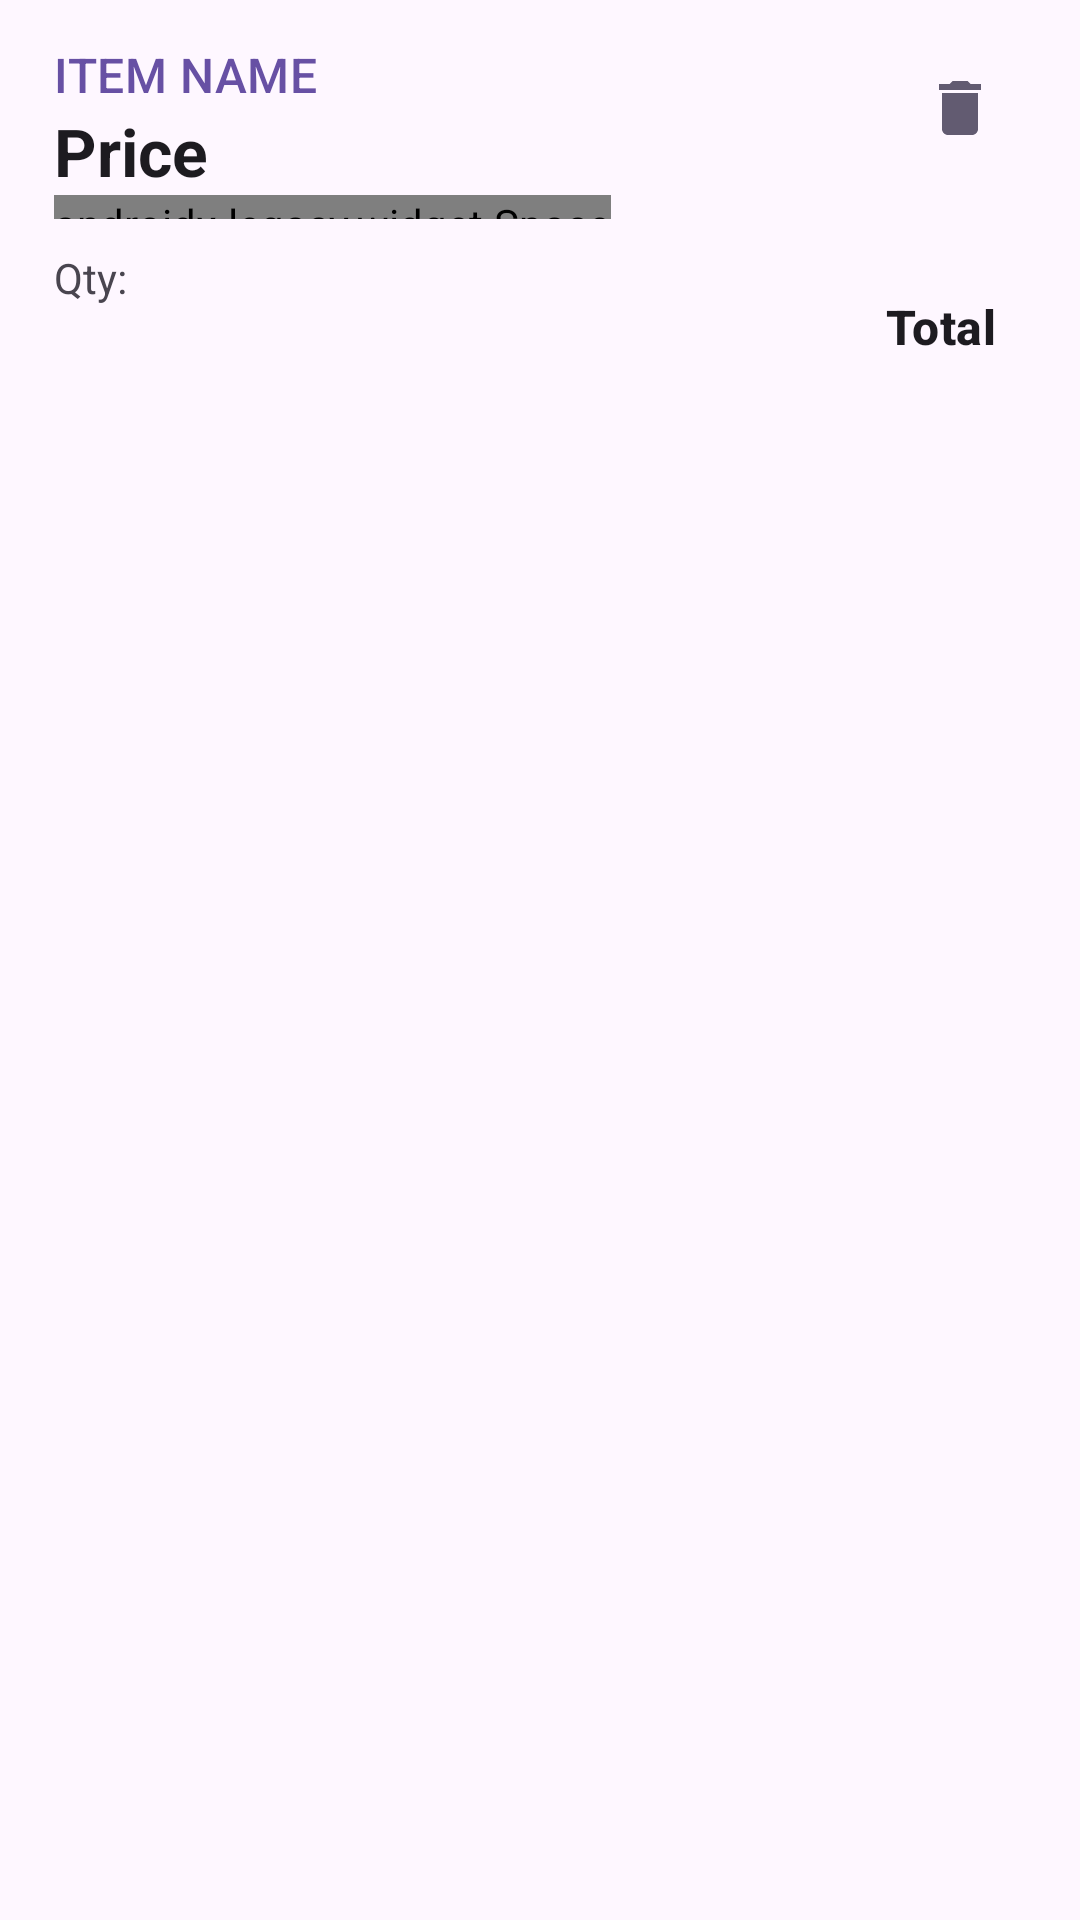

Named icons in this screenshot (1080x1920) and their centers, [x,y]:
Remove Item: [960,108]
